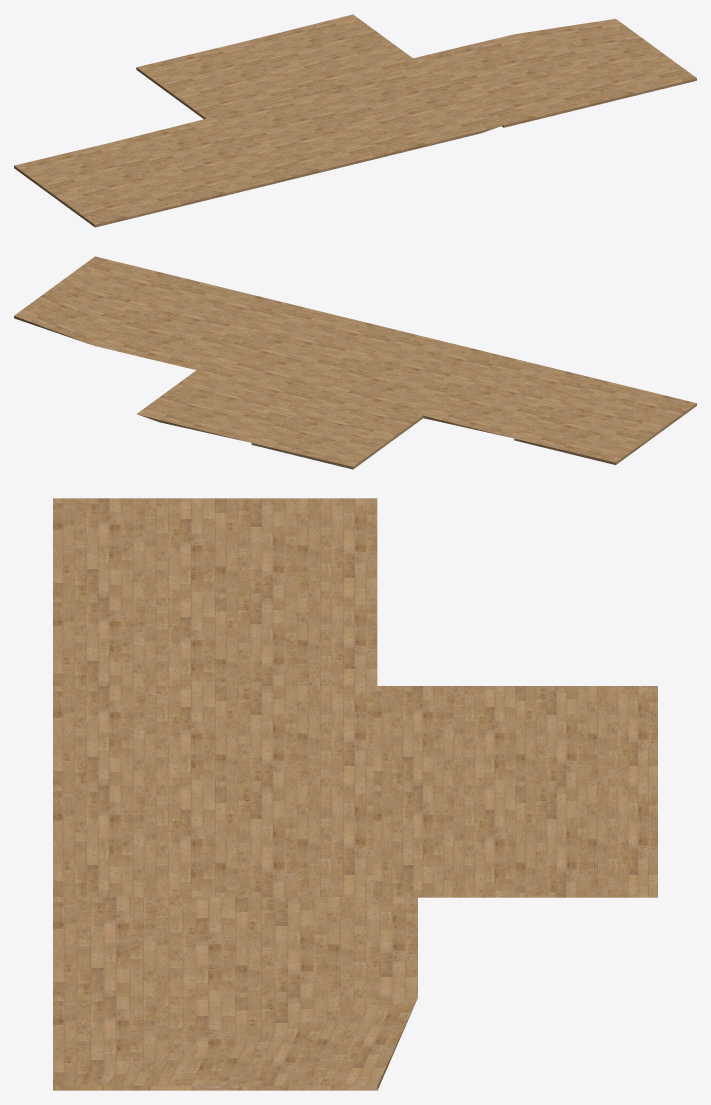
File: ChaoPinkMan.fbx
3 views of the same model, one above another, from view 1: azimuth 30°, elevation 25°; view 2: azimuth 150°, elevation 25°; view 3: azimuth 270°, elevation 25° (orthographic). The views are drawn at different scales.
Visible parts, largest first — view 1: Cube.015; view 2: Cube.015; view 3: Cube.015.
Part boxes in pixels (x1,y1,x2,y2): Cube.015: [14, 14, 696, 227]; Cube.015: [14, 256, 696, 469]; Cube.015: [53, 498, 657, 1090].
Bounding box in the file's own units: 9441 × 38.91 × 4111.
Materials: 2 (2 with a texture image).
